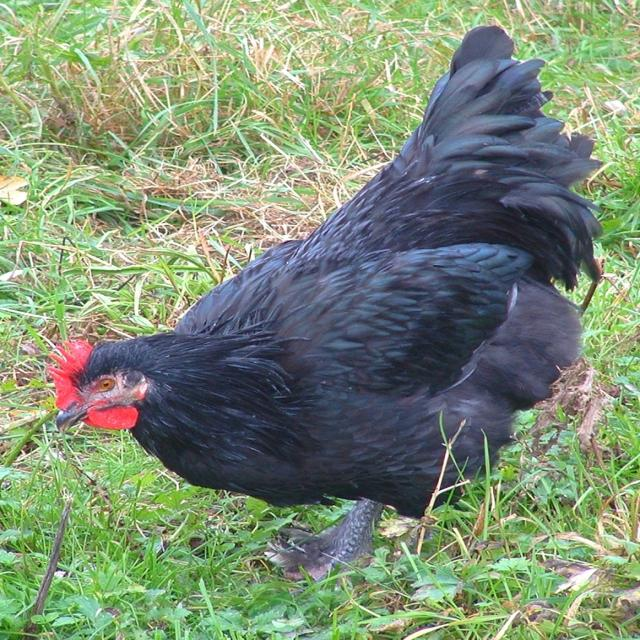Chicken: (24, 46, 640, 601)
